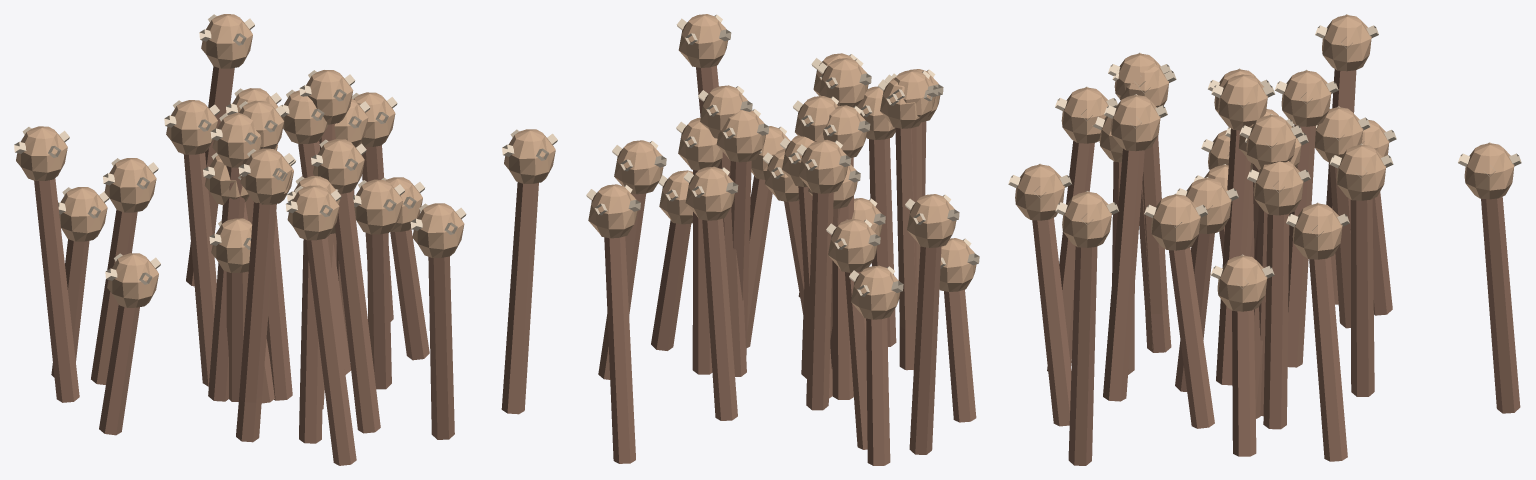
The model's file is cloves.glb.
The picture shows the model from 3 angles, left to right: view 1: azimuth 30°, elevation 25°; view 2: azimuth 150°, elevation 25°; view 3: azimuth 270°, elevation 25°; orthographic projection. The views are drawn at different scales.
Visible parts, largest first — view 1: cloves; view 2: cloves; view 3: cloves.
Boxes of the visible parts, x1,y1,x2,y2 form: cloves: [14, 14, 557, 465]; cloves: [586, 14, 979, 465]; cloves: [1008, 14, 1521, 465].
Bounding box in the file's own units: 0.8302 × 0.5627 × 0.8733.
